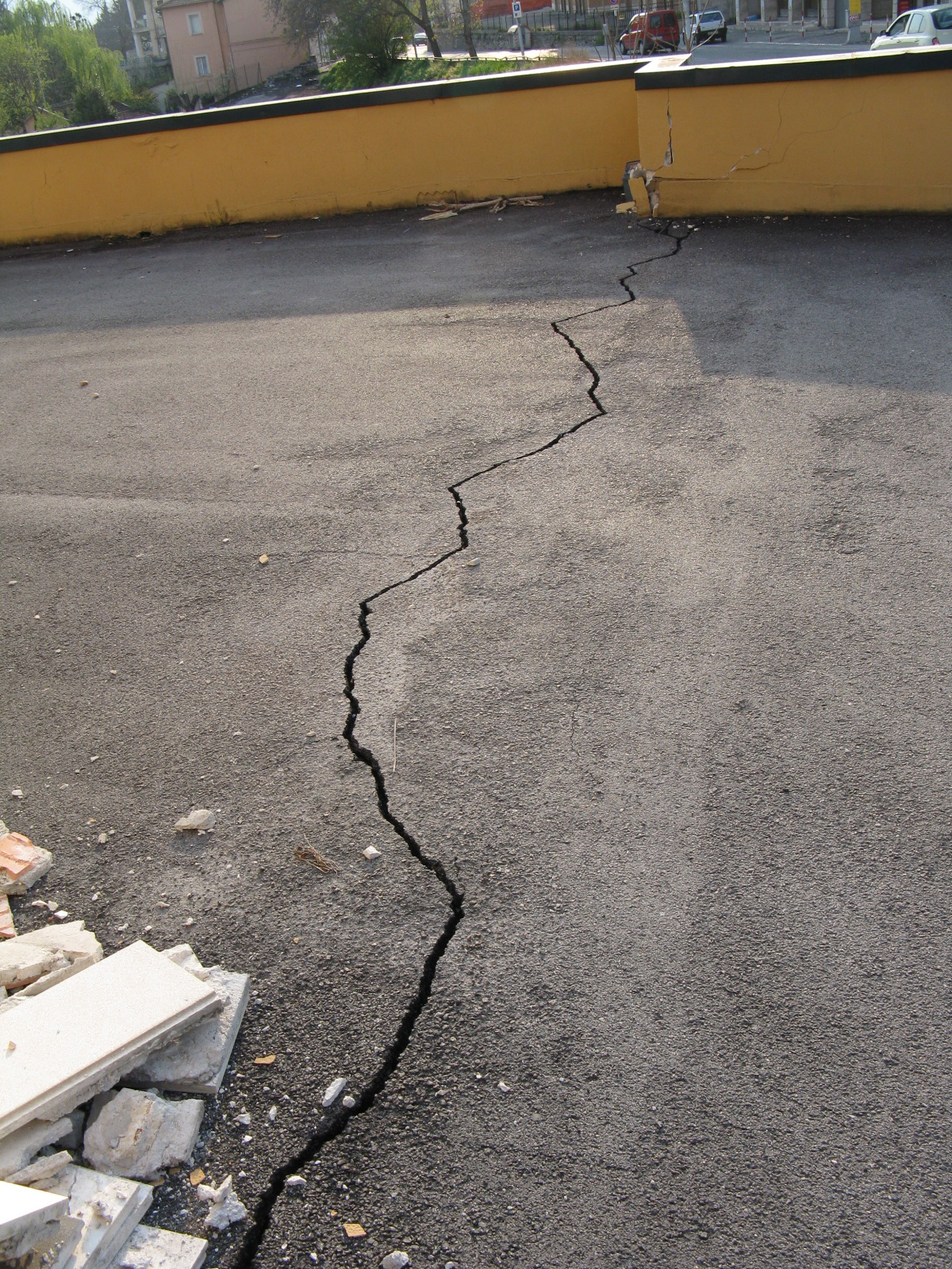Crack: (194, 214, 700, 1261)
Debris: (612, 198, 636, 215)
Non structural damage: (675, 79, 881, 185), (641, 90, 678, 214)
